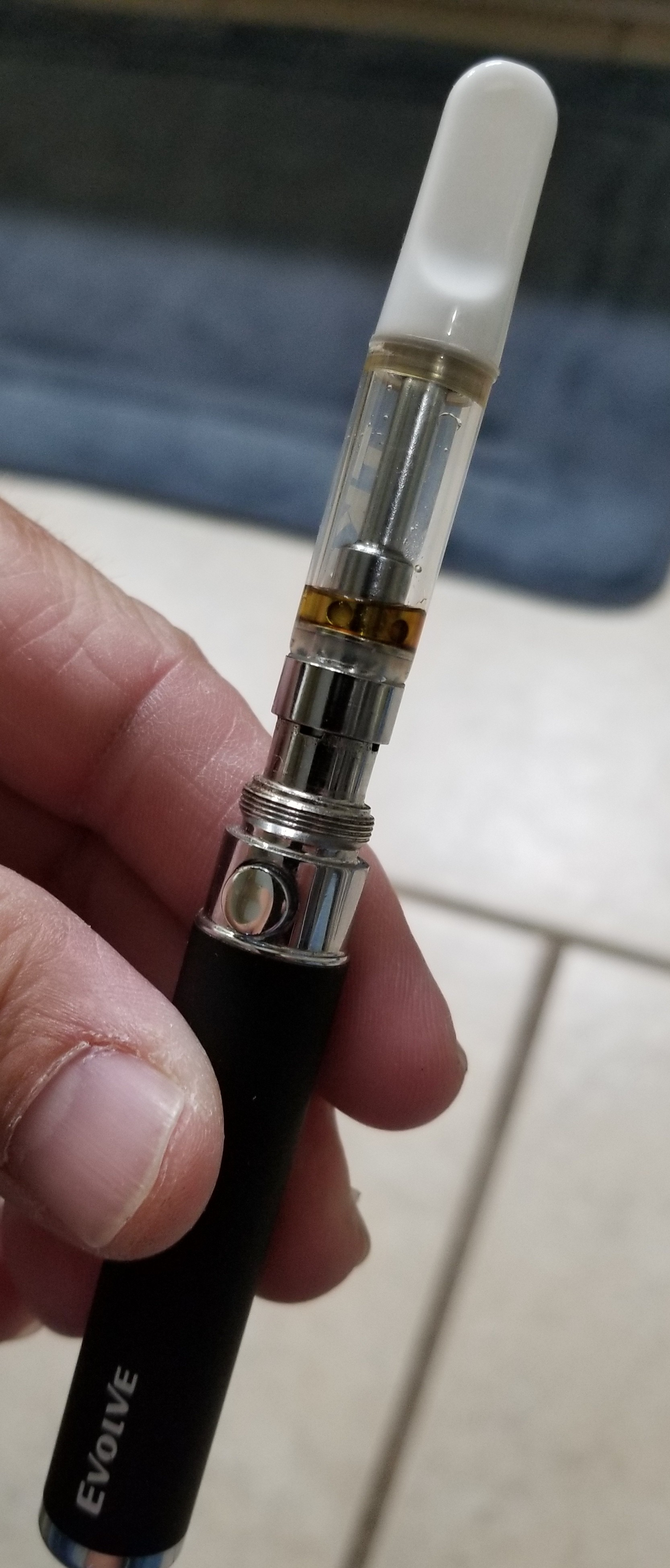weed_pen: (0, 51, 584, 1568)
